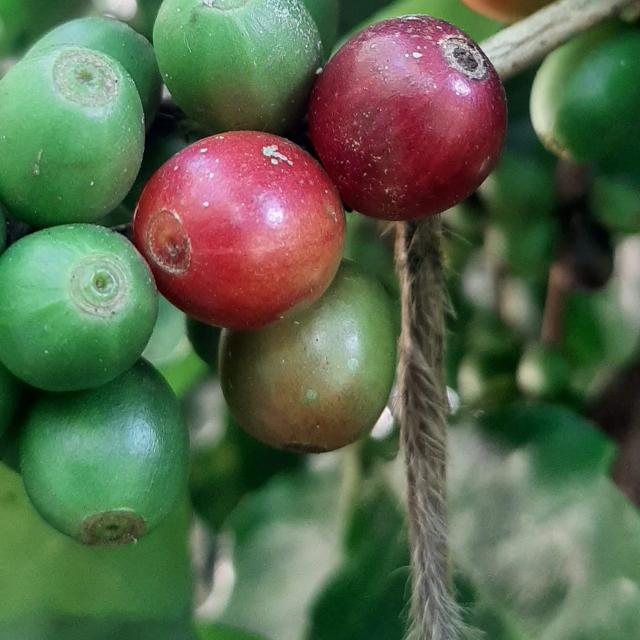green: (19, 359, 188, 547), (0, 224, 157, 391), (0, 44, 143, 227), (154, 0, 323, 134), (531, 19, 640, 161), (26, 16, 162, 128)
red: (308, 14, 508, 221)
yellow: (133, 130, 345, 330), (219, 260, 396, 453)
